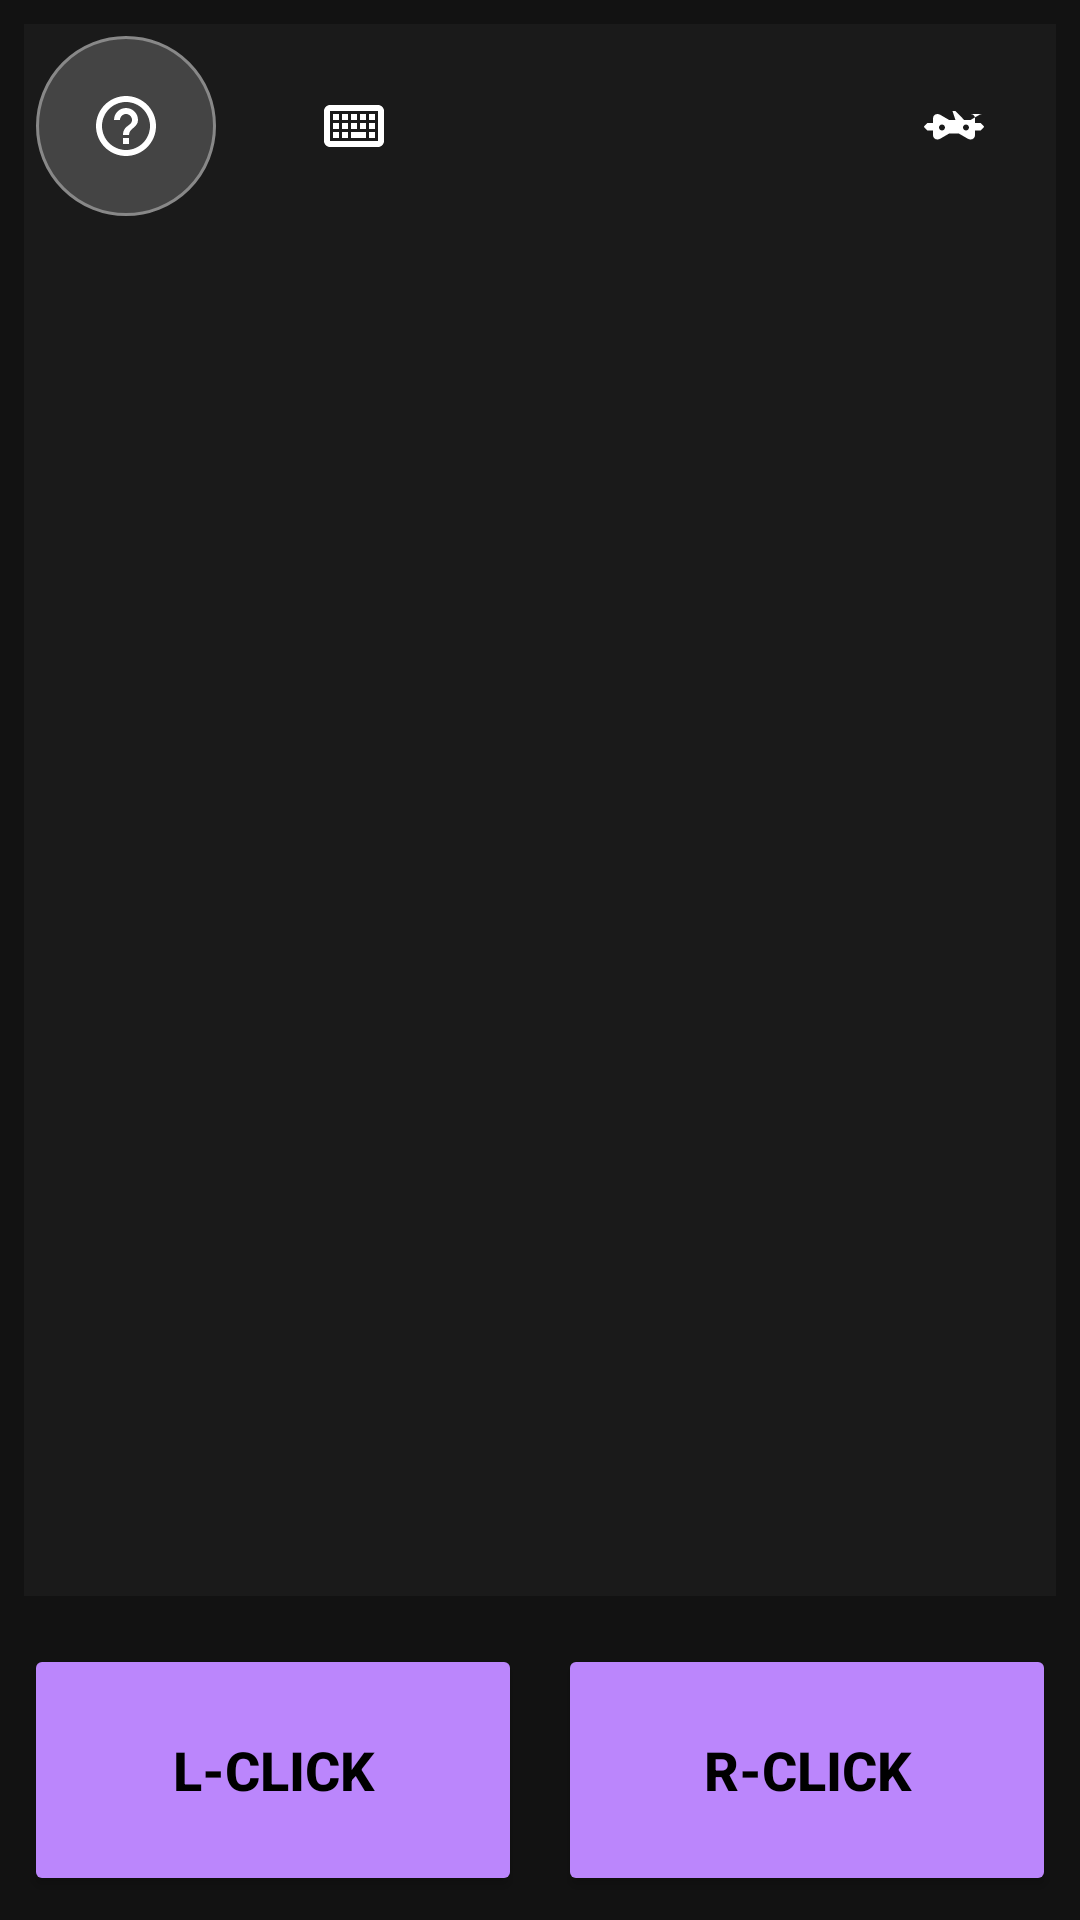

Icon bounding boxes for this 1080w x 1920h phone screenshot, format bbox(x1, y1, x2, y2):
Switch to Gamepad: bbox(924, 111, 984, 140)
Switch to Keyboard: bbox(324, 105, 384, 147)
